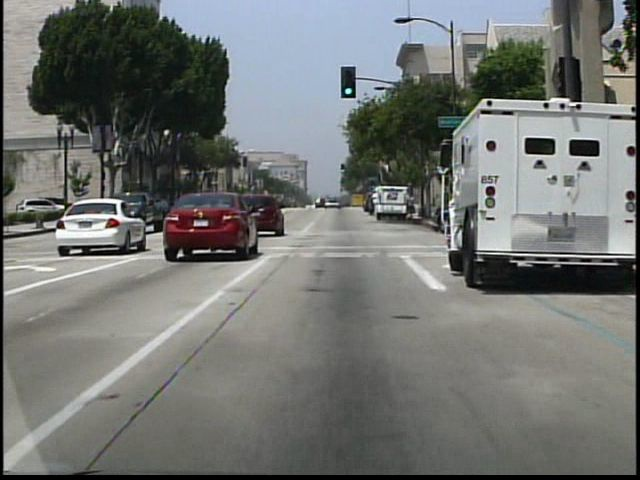person: (408, 189, 417, 223)
